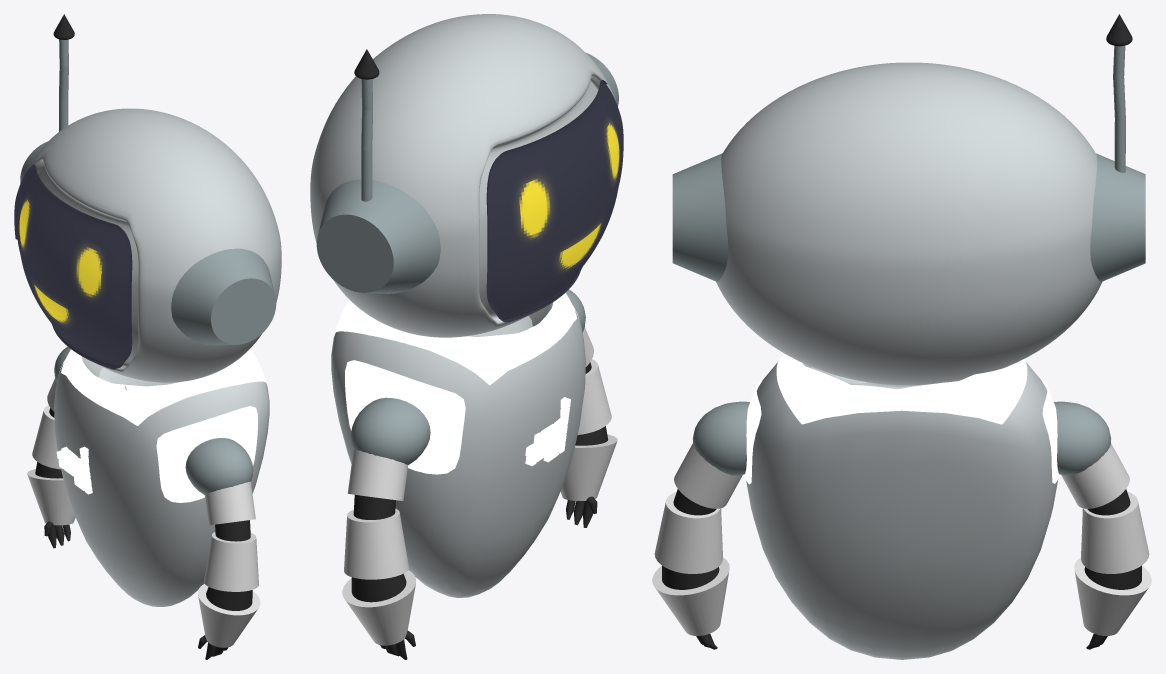
Rendered from mascot23.glb.
3 views of the same model, side by side, from view 1: azimuth 30°, elevation 25°; view 2: azimuth 150°, elevation 25°; view 3: azimuth 270°, elevation 25° (orthographic). The views are drawn at different scales.
Visible parts, largest first — view 1: Sphere, Cube.006, Sphere.005, Cylinder, Cube.001, Cube.003, Cylinder.010, Cylinder.012, Sphere.004, Cylinder.008, Cylinder.011, Cube.020 (+2 smaller); view 2: Sphere, Cube.006, Sphere.005, Cylinder, Cube.001, Cube.003, Cylinder.010, Cylinder.012, Sphere.004, Cylinder.008, Cylinder.011, Cube.020 (+3 smaller); view 3: Sphere, Cube.006, Cylinder, Cube.001, Cylinder.010, Sphere.004, Cylinder.012, Cylinder.008, Cube.003, Cylinder.011, Cylinder.002, Cylinder.009.
Part boxes in pixels (x1,y1,x2,y2): Sphere: [28, 108, 281, 382]; Cube.006: [54, 356, 269, 606]; Sphere.005: [14, 164, 132, 369]; Cylinder: [20, 141, 276, 345]; Cube.001: [61, 348, 266, 425]; Cube.003: [59, 360, 257, 502]; Cylinder.010: [32, 405, 258, 591]; Cylinder.012: [27, 469, 260, 647]; Sphere.004: [54, 346, 253, 494]; Cylinder.008: [47, 378, 255, 525]; Cylinder.011: [35, 462, 252, 610]; Cube.020: [56, 446, 92, 494]; Sphere: [310, 14, 615, 337]; Cube.006: [331, 302, 585, 597]; Sphere.005: [486, 80, 623, 322]; Cylinder: [316, 53, 618, 293]; Cube.001: [334, 293, 576, 385]; Cube.003: [345, 306, 579, 474]; Cylinder.010: [344, 359, 611, 579]; Cylinder.012: [342, 434, 617, 645]; Sphere.004: [350, 289, 585, 465]; Cylinder.008: [347, 327, 593, 500]; Cylinder.011: [351, 426, 608, 602]; Cube.020: [525, 397, 570, 466]; Sphere: [716, 62, 1102, 385]; Cube.006: [746, 362, 1057, 659]; Cylinder: [672, 153, 1145, 281]; Cube.001: [776, 354, 1027, 424]; Cylinder.010: [654, 491, 1149, 573]; Sphere.004: [692, 401, 1111, 475]; Cylinder.012: [652, 557, 1151, 635]; Cylinder.008: [674, 443, 1129, 508]; Cube.003: [744, 378, 1059, 484]; Cylinder.011: [662, 565, 1141, 589]; Cylinder.002: [1113, 45, 1125, 172]; Cylinder.009: [673, 489, 1130, 515].
Bounding box in the file's own units: 1.44 × 3.5 × 2.45.
Materials: 7 (1 with a texture image).
